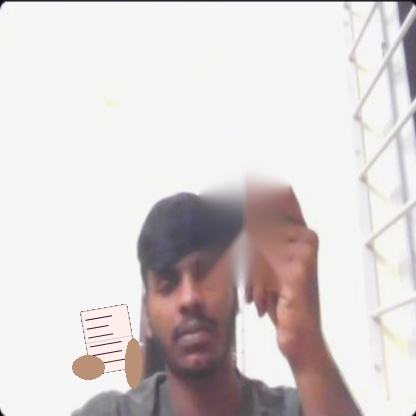cheat_chit: (80, 303, 138, 375)
